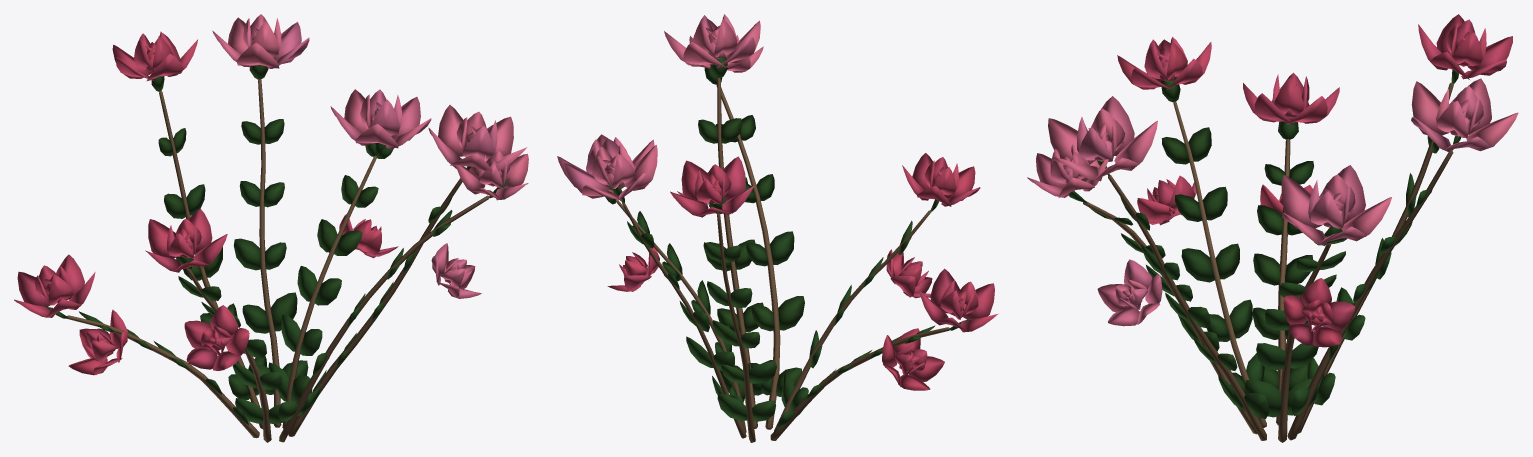
The model's file is potfill_rose.glb.
3 views of the same model, side by side, from view 1: azimuth 30°, elevation 25°; view 2: azimuth 150°, elevation 25°; view 3: azimuth 270°, elevation 25° (orthographic). The views are drawn at different scales.
Visible parts, largest first — view 1: Sammel Pflanze, Sammel Holz; view 2: Sammel Pflanze, Sammel Holz; view 3: Sammel Pflanze, Sammel Holz.
Part boxes in pixels (x1,y1,x2,y2): Sammel Pflanze: [14, 14, 528, 424]; Sammel Holz: [67, 79, 489, 442]; Sammel Pflanze: [557, 14, 998, 429]; Sammel Holz: [616, 78, 949, 442]; Sammel Pflanze: [1027, 14, 1518, 418]; Sammel Holz: [1083, 82, 1453, 442].
Bounding box in the file's own units: 0.5558 × 0.4311 × 0.4897.
